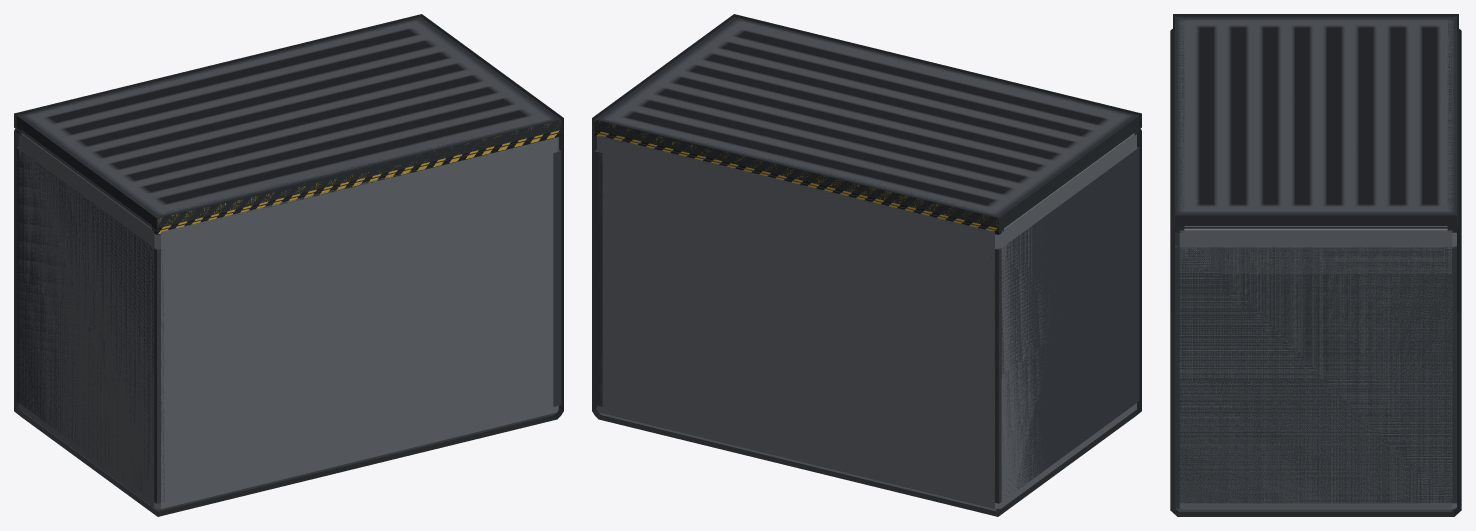
Rendered from SM_StairStep_2.glb.
3 views of the same model, side by side, from view 1: azimuth 30°, elevation 25°; view 2: azimuth 150°, elevation 25°; view 3: azimuth 270°, elevation 25° (orthographic).
Visible parts, largest first — view 1: SM_StairStep_2, SM_StairStep_2_Outline; view 2: SM_StairStep_2, SM_StairStep_2_Outline; view 3: SM_StairStep_2, SM_StairStep_2_Outline.
Part boxes in pixels (x1,y1,x2,y2): SM_StairStep_2: (16, 17, 561, 511); SM_StairStep_2_Outline: (14, 14, 563, 516); SM_StairStep_2: (594, 17, 1139, 511); SM_StairStep_2_Outline: (592, 14, 1141, 516); SM_StairStep_2: (1175, 16, 1456, 511); SM_StairStep_2_Outline: (1170, 14, 1461, 516).
Bounding box in the file's own units: 2.04 × 1.43 × 1.24.
2 materials, 1 textured.
